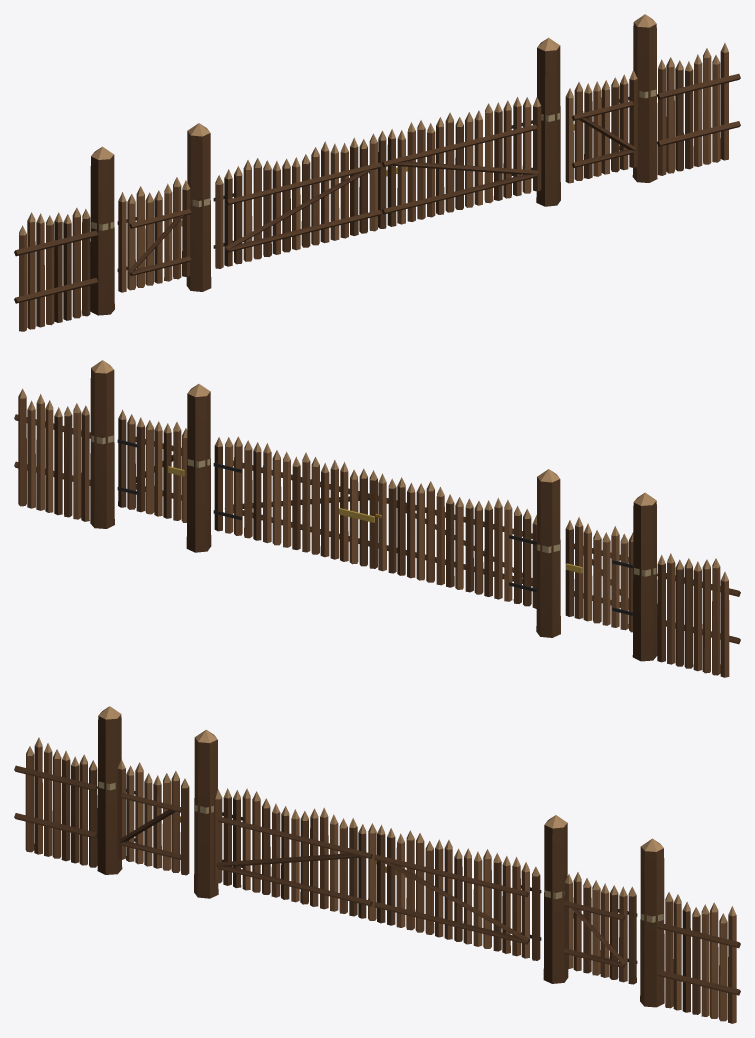
Rendered from fence_gate_road_low.glb.
3 renders of one model, top to bottom at view 1: azimuth 30°, elevation 25°; view 2: azimuth 150°, elevation 25°; view 3: azimuth 330°, elevation 25°, orthographic.
Visible parts, largest first — view 1: fence_gate_road, leaf_l, leaf_r, side_l, side_r; view 2: fence_gate_road, leaf_r, leaf_l, side_l, side_r; view 3: fence_gate_road, leaf_r, leaf_l, side_l, side_r.
Part boxes in pixels (left/top/right/bottom): fence_gate_road: left=14, top=14, right=740, bottom=331; leaf_l: left=213, top=133, right=381, bottom=268; leaf_r: left=378, top=97, right=541, bottom=228; side_l: left=117, top=177, right=191, bottom=292; side_r: left=565, top=70, right=637, bottom=183; fence_gate_road: left=14, top=360, right=740, bottom=677; leaf_r: left=213, top=436, right=378, bottom=568; leaf_l: left=375, top=473, right=536, bottom=608; side_l: left=565, top=517, right=633, bottom=632; side_r: left=117, top=409, right=187, bottom=522; fence_gate_road: left=14, top=706, right=740, bottom=1023; leaf_r: left=373, top=824, right=541, bottom=960; leaf_l: left=214, top=788, right=376, bottom=920; side_l: left=117, top=759, right=189, bottom=875; side_r: left=563, top=872, right=637, bottom=984.
Size of the model in its own units: 12 by 2.6 by 0.4472.
